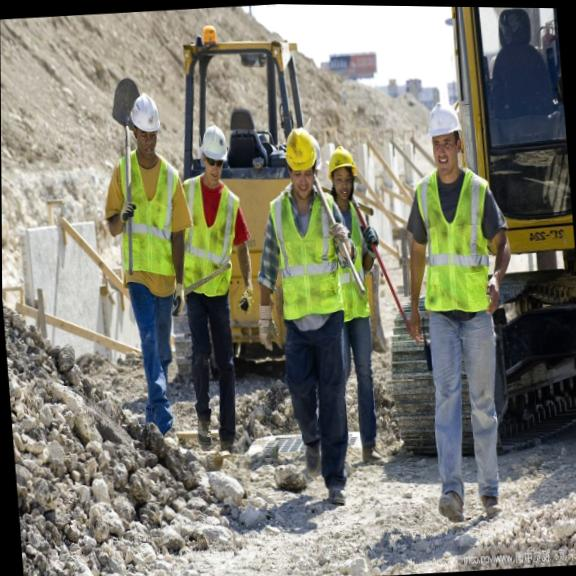safety_vest: (408, 159, 494, 324), (272, 181, 343, 332), (170, 180, 250, 308), (115, 151, 182, 286), (335, 209, 375, 335)
